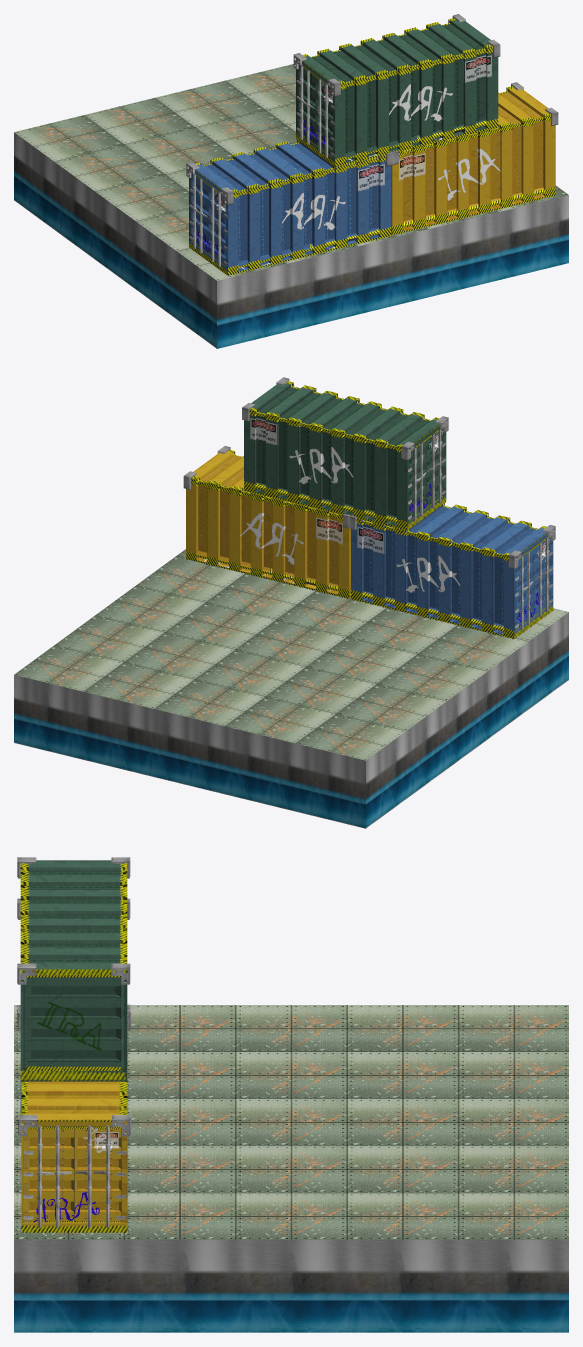
The model's file is tile single side Rev2(1).fbx.
The picture shows the model from 3 angles, top to bottom: view 1: azimuth 30°, elevation 25°; view 2: azimuth 150°, elevation 25°; view 3: azimuth 270°, elevation 25°; orthographic projection. The views are drawn at different scales.
Visible parts, largest first — view 1: Cube, Cube.003, Cube.001, Cube.002; view 2: Cube, Cube.003, Cube.001, Cube.002; view 3: Cube, Cube.003, Cube.002.
Part boxes in pixels (box(x1,y1,x2,y2)): Cube: box(14, 64, 568, 348); Cube.003: box(293, 14, 500, 167); Cube.001: box(186, 140, 392, 275); Cube.002: box(391, 82, 558, 235); Cube: box(14, 549, 568, 828); Cube.003: box(242, 377, 448, 530); Cube.001: box(349, 503, 555, 638); Cube.002: box(183, 446, 350, 598); Cube: box(14, 1005, 568, 1332); Cube.003: box(17, 857, 130, 1081); Cube.002: box(18, 1009, 130, 1232).
Bounding box in the file's own units: 20000 × 12732 × 20000.
